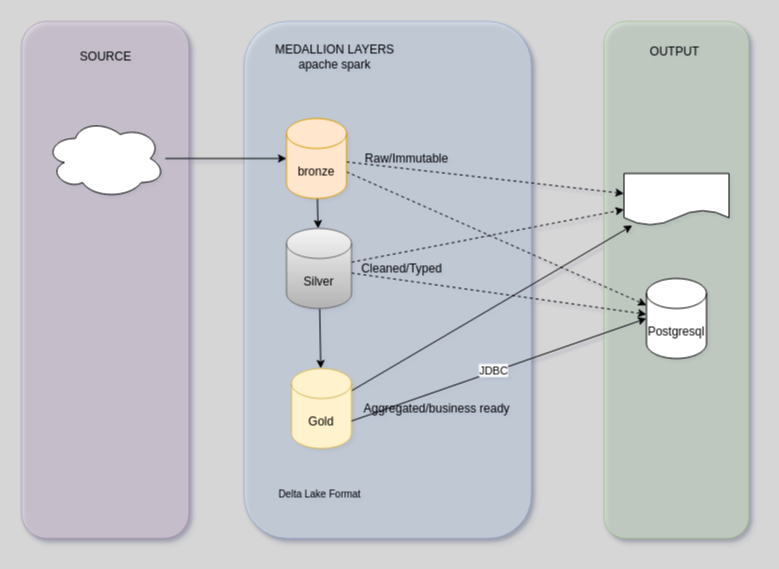
Some shapes in this 779 by 569 pixel diagram are drawn without their labels. Here are the shapes that lost their labels. From the top down, the centre of each, then its label:
At [104,158]: "kaggle(CSV)".
At [676,199]: "Local Delta Tables".
